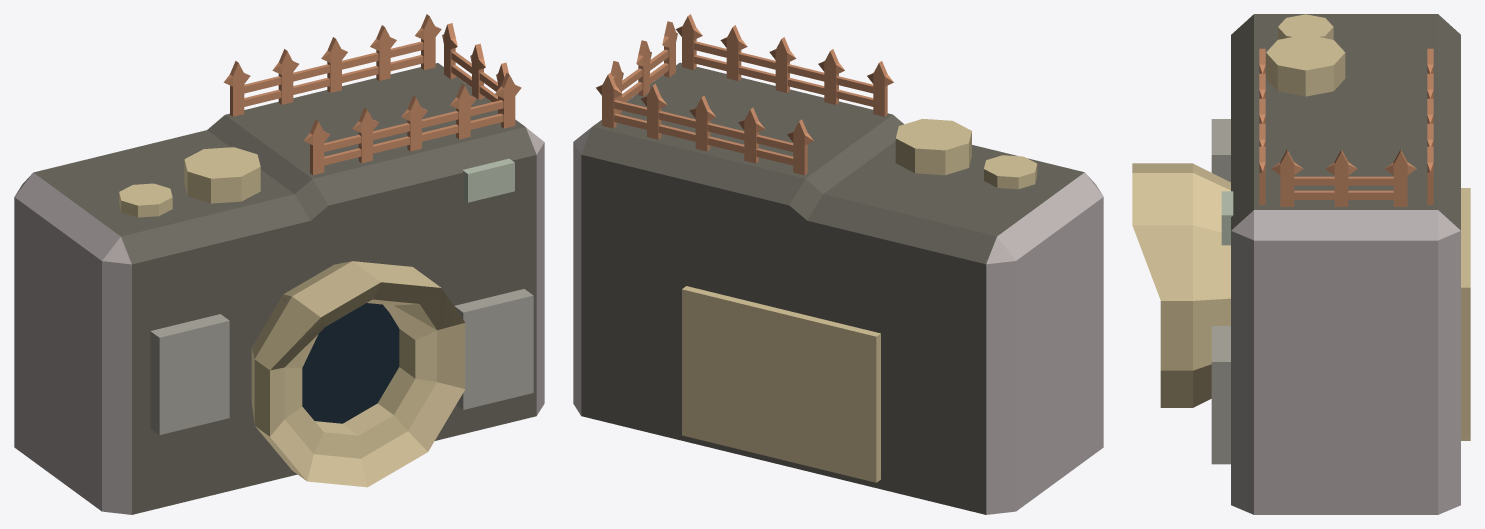
The model's file is CameraHouse.fbx.
The picture shows the model from 3 angles, left to right: view 1: azimuth 30°, elevation 25°; view 2: azimuth 150°, elevation 25°; view 3: azimuth 270°, elevation 25°; orthographic projection. The views are drawn at different scales.
Parts seen in each view (by area): view 1: Camera_House; view 2: Camera_House; view 3: Camera_House.
Part boxes in pixels (x1,y1,x2,y2): Camera_House: [14, 14, 544, 514]; Camera_House: [573, 14, 1103, 514]; Camera_House: [1132, 14, 1470, 514].
Bounding box in the file's own units: 71.12 × 44.82 × 51.42.
